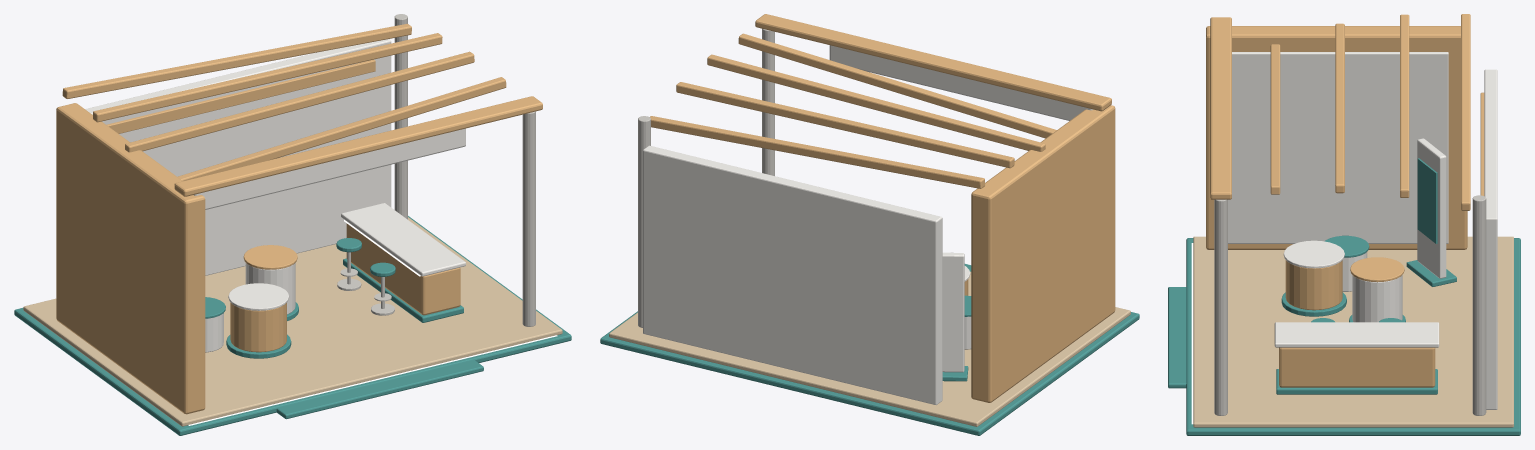
The model's file is booth_04_wave_pavilion_v27_4.glb.
The picture shows the model from 3 angles, left to right: view 1: azimuth 30°, elevation 25°; view 2: azimuth 150°, elevation 25°; view 3: azimuth 270°, elevation 25°; orthographic projection. The views are drawn at different scales.
Parts seen in each view (by area): view 1: MatGroup_TerracottaWave, MatGroup_PavilionCream, MatGroup_WarmMapleFloor, MatGroup_DeepTealAccent, MatGroup_WarmSteel, MatGroup_WaveWarmLED; view 2: MatGroup_PavilionCream, MatGroup_TerracottaWave, MatGroup_WarmMapleFloor, MatGroup_DeepTealAccent, MatGroup_WarmSteel; view 3: MatGroup_PavilionCream, MatGroup_TerracottaWave, MatGroup_WarmMapleFloor, MatGroup_DeepTealAccent, MatGroup_WarmSteel, MatGroup_WaveWarmLED.
Part boxes in pixels (left/top/right/bottom): MatGroup_TerracottaWave: left=56, top=23, right=542, bottom=414; MatGroup_PavilionCream: left=85, top=39, right=465, bottom=352; MatGroup_WarmMapleFloor: left=23, top=217, right=562, bottom=426; MatGroup_DeepTealAccent: left=14, top=216, right=571, bottom=435; MatGroup_WarmSteel: left=337, top=14, right=535, bottom=326; MatGroup_WaveWarmLED: left=188, top=219, right=557, bottom=425; MatGroup_PavilionCream: left=643, top=45, right=1093, bottom=404; MatGroup_TerracottaWave: left=650, top=14, right=1115, bottom=402; MatGroup_WarmMapleFloor: left=609, top=271, right=1130, bottom=426; MatGroup_DeepTealAccent: left=600, top=264, right=1139, bottom=435; MatGroup_WarmSteel: left=638, top=28, right=774, bottom=327; MatGroup_PavilionCream: left=1228, top=52, right=1497, bottom=409; MatGroup_TerracottaWave: left=1206, top=14, right=1484, bottom=387; MatGroup_WarmMapleFloor: left=1193, top=236, right=1513, bottom=427; MatGroup_DeepTealAccent: left=1168, top=158, right=1520, bottom=435; MatGroup_WarmSteel: left=1214, top=195, right=1486, bottom=415; MatGroup_WaveWarmLED: left=1191, top=243, right=1193, bottom=424.
Size of the model in its own units: 6.72 by 3.93 by 5.19.
